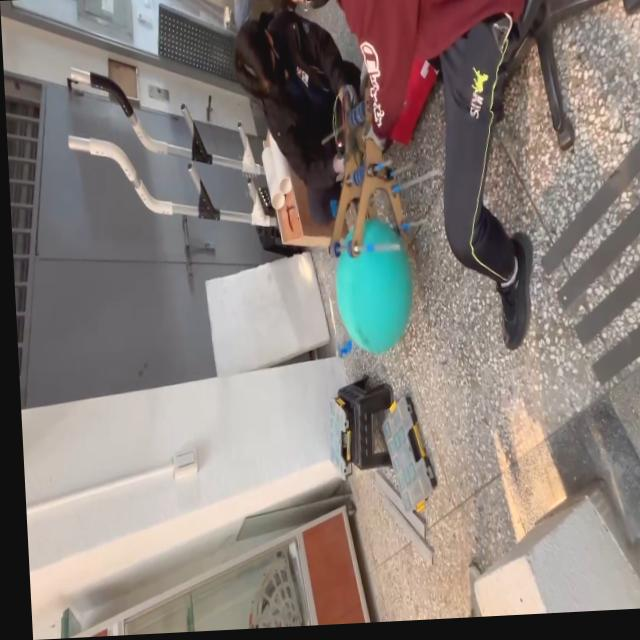ALGAE: (331, 216, 417, 358)
